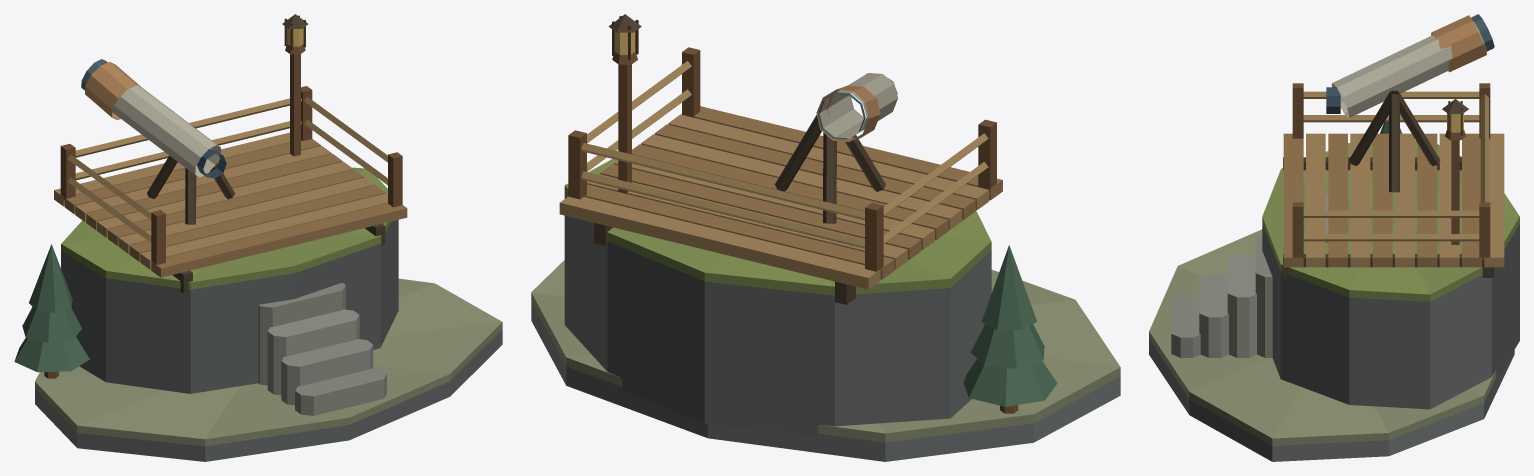
3 views of the same model, side by side, from view 1: azimuth 30°, elevation 25°; view 2: azimuth 150°, elevation 25°; view 3: azimuth 270°, elevation 25° (orthographic). The views are drawn at different scales.
Visible parts, largest first — view 1: S16_观星高台; view 2: S16_观星高台; view 3: S16_观星高台.
Boxes of the visible parts, x1,y1,x2,y2 form: S16_观星高台: (14, 14, 502, 461); S16_观星高台: (531, 14, 1120, 461); S16_观星高台: (1149, 14, 1519, 461).
Bounding box in the file's own units: 4.32 × 2.85 × 3.16.
